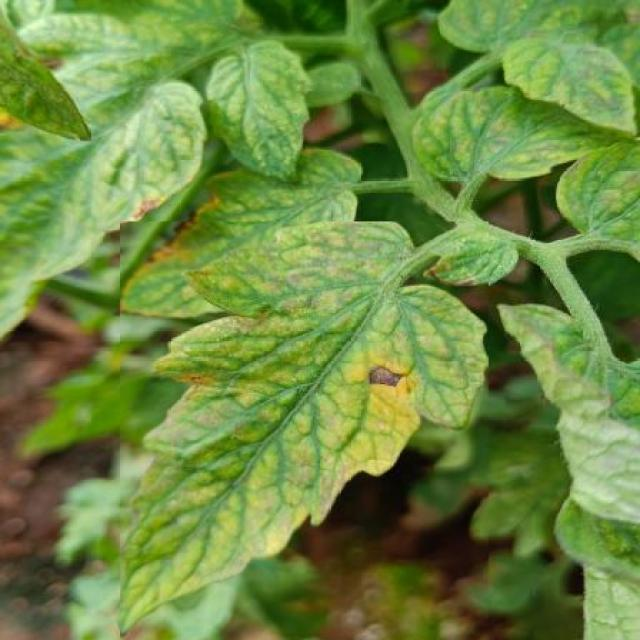Early Blight: (120, 221, 489, 640)
